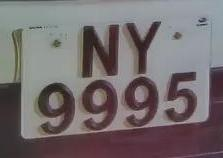5: (160, 65, 203, 129)
9: (30, 72, 79, 142), (74, 75, 125, 137), (119, 74, 164, 133)
N: (75, 17, 124, 83)
Y: (118, 15, 166, 78)
